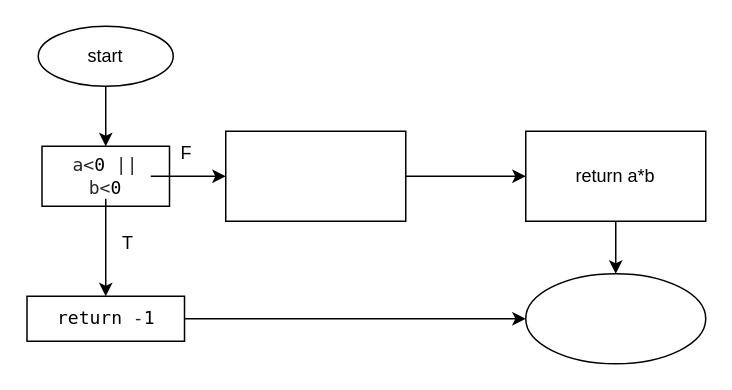
Some shapes in this 732 by 390 pixel diagram are drawn without their labels. The centre of each missing label's shape, as x and y in pixels:
"a*b" belongs at (x=315, y=175).
"kết thúc" belongs at (x=615, y=318).
